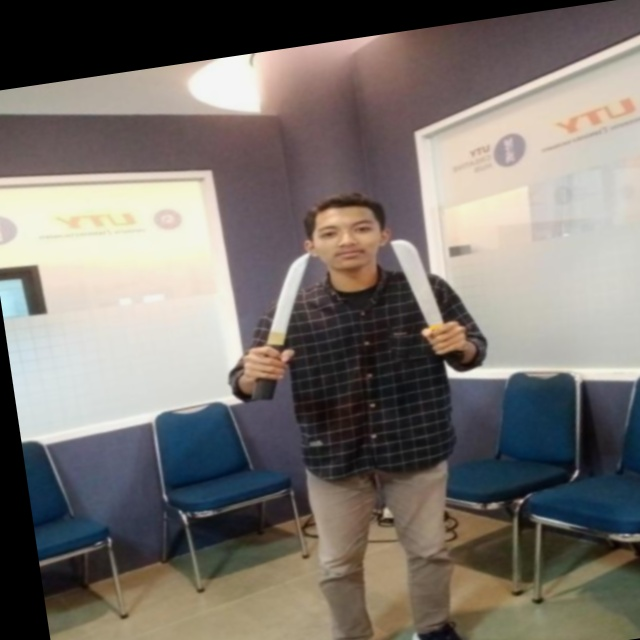Sharp-Object: (231, 250, 333, 405), (385, 229, 473, 373)
